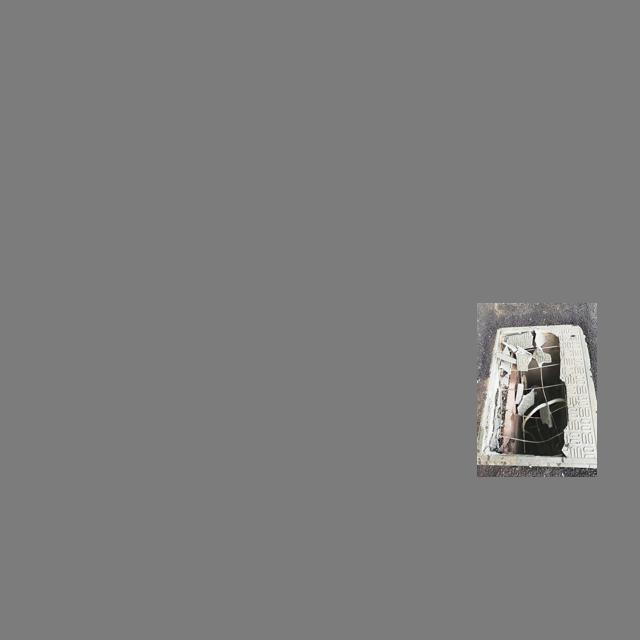broke: (479, 319, 596, 471)
